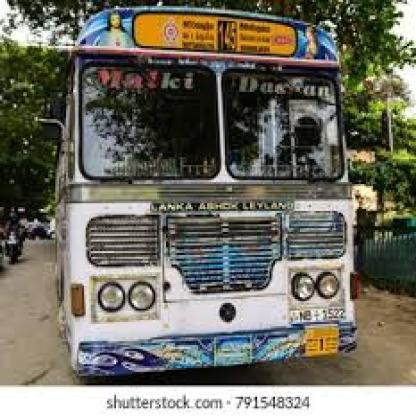bus front: (31, 0, 364, 379)
number plate: (290, 306, 351, 322)
